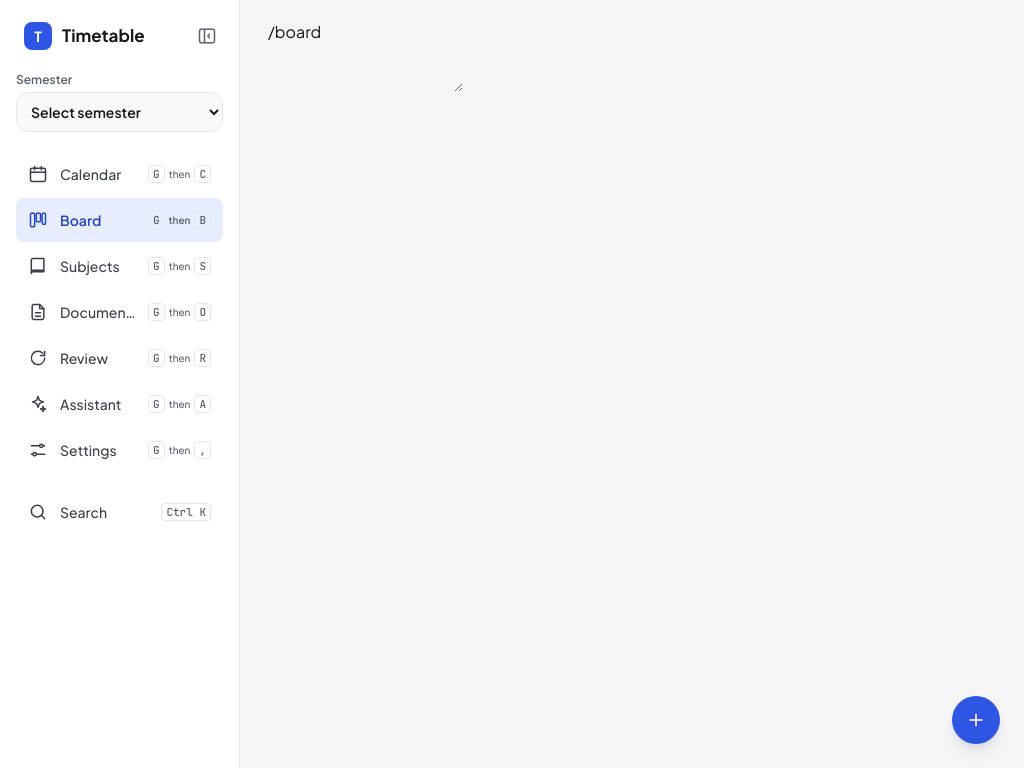
Test: SearchPalette › opens from the search button and is listed in the shortcut help
Click the button "Search Ctrl K". click: (120,512)
box: [16,492,223,532]
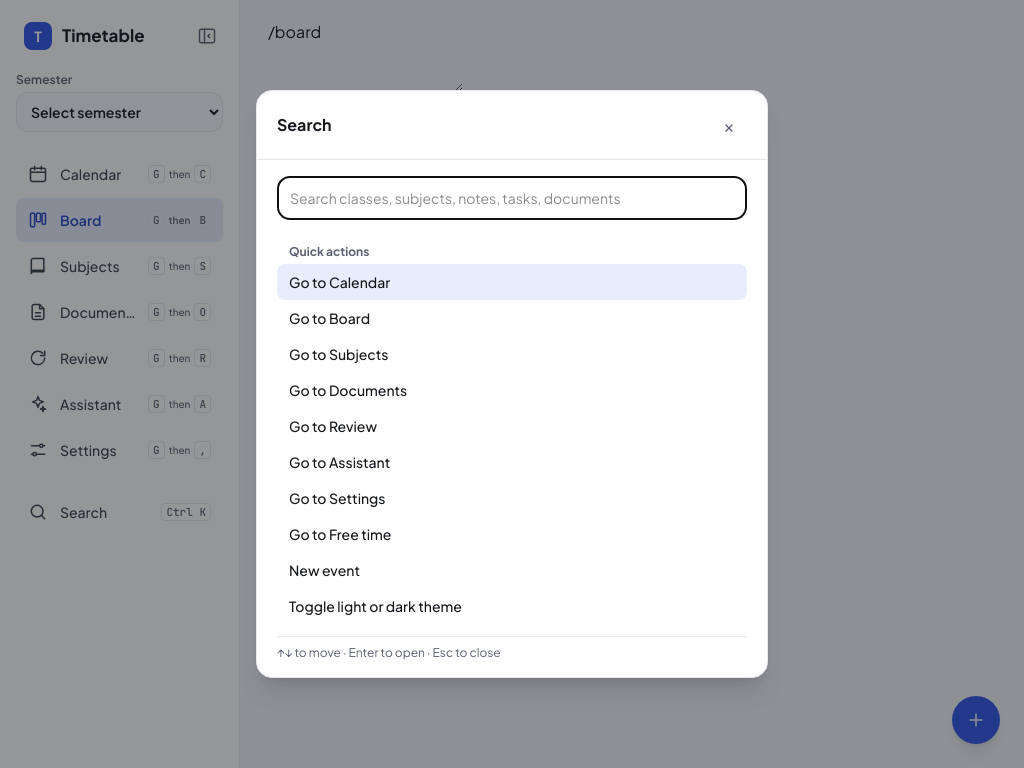
Check: the dialog "Search" is shown, box [256,90,768,678]
Press Escape
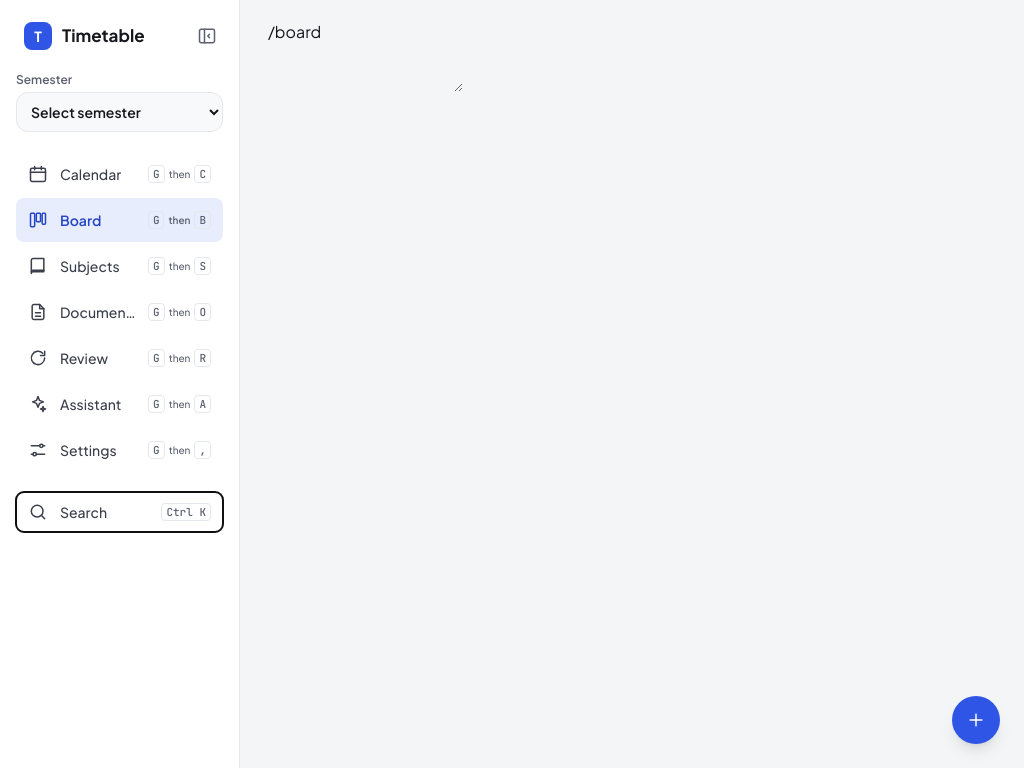
Type keys "?"
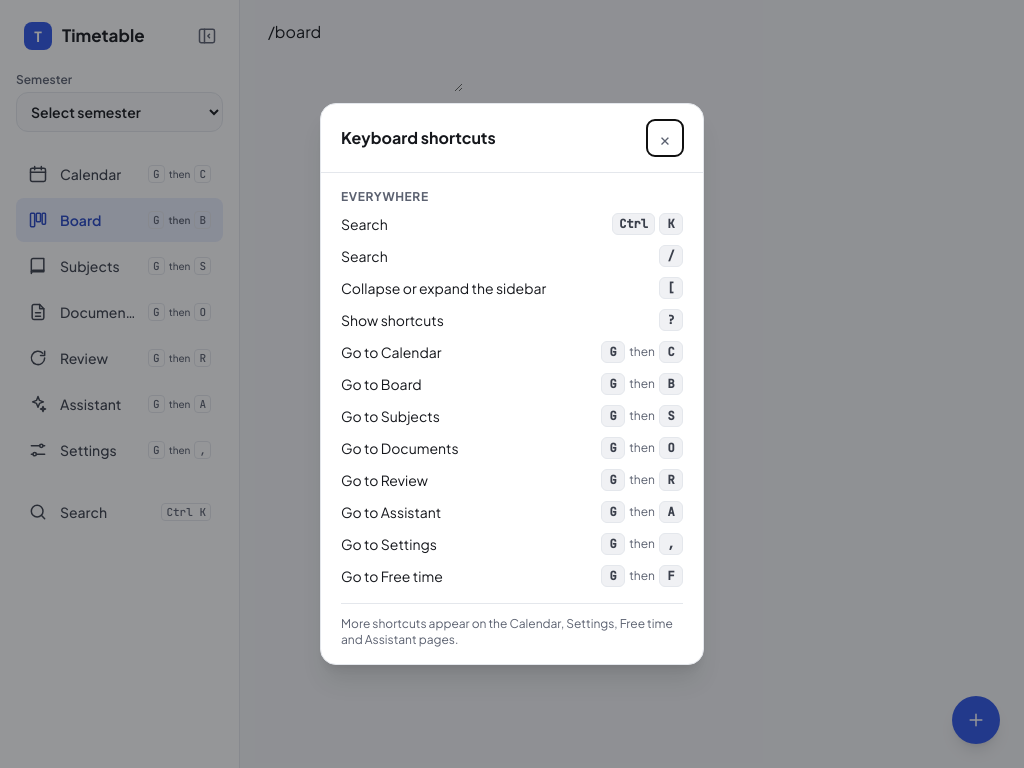
Check: the text "Search" is shown 2 times, box [341,214,388,234]; [341,246,388,266]
